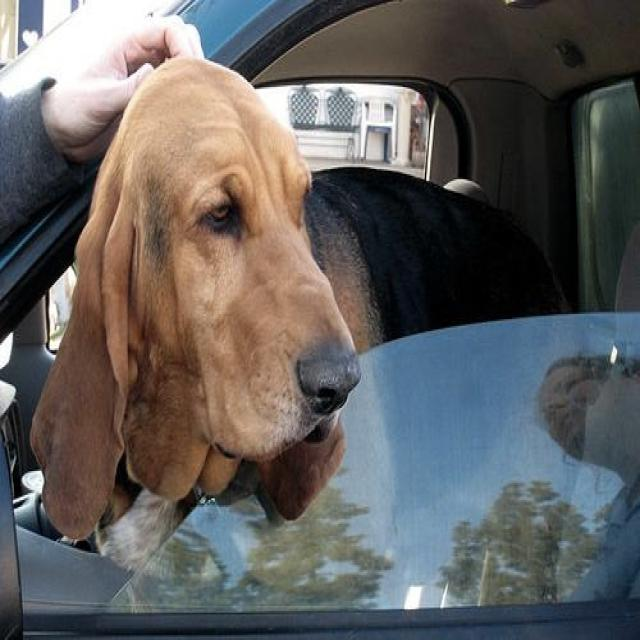bloodhound: (29, 53, 617, 607)
